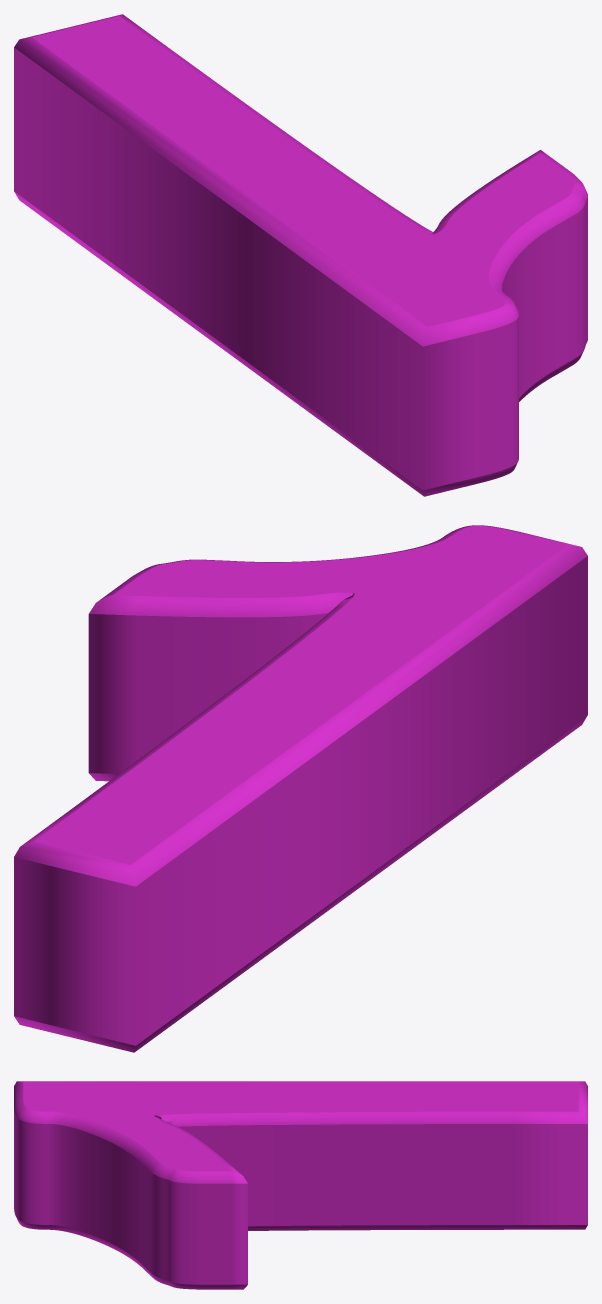
Rendered from Blocky_Number_1.fbx.
3 renders of one model, top to bottom at view 1: azimuth 30°, elevation 25°; view 2: azimuth 150°, elevation 25°; view 3: azimuth 270°, elevation 25°, orthographic. The views are drawn at different scales.
Parts seen in each view (by area): view 1: BlockyNumber_1; view 2: BlockyNumber_1; view 3: BlockyNumber_1.
Part boxes in pixels (x1,y1,x2,y2): BlockyNumber_1: (14, 14, 587, 496); BlockyNumber_1: (14, 525, 587, 1052); BlockyNumber_1: (14, 1081, 587, 1289).
Bounding box in the file's own units: 0.2484 × 0.14 × 0.618.
